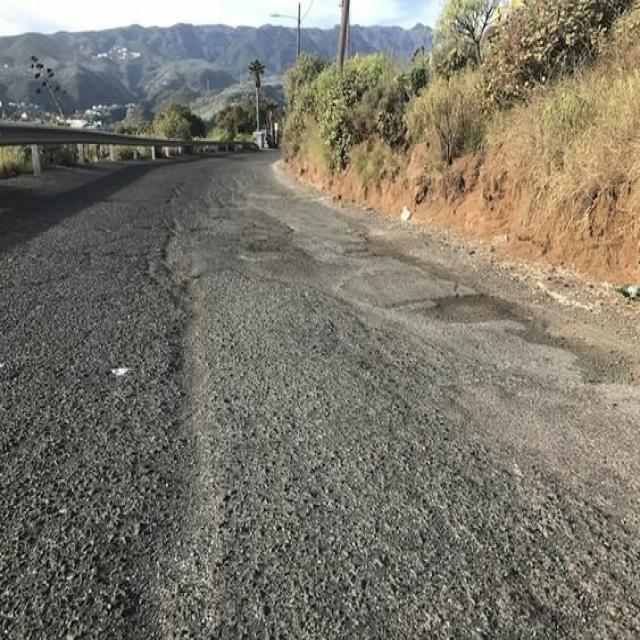pothole: (138, 176, 244, 608)
